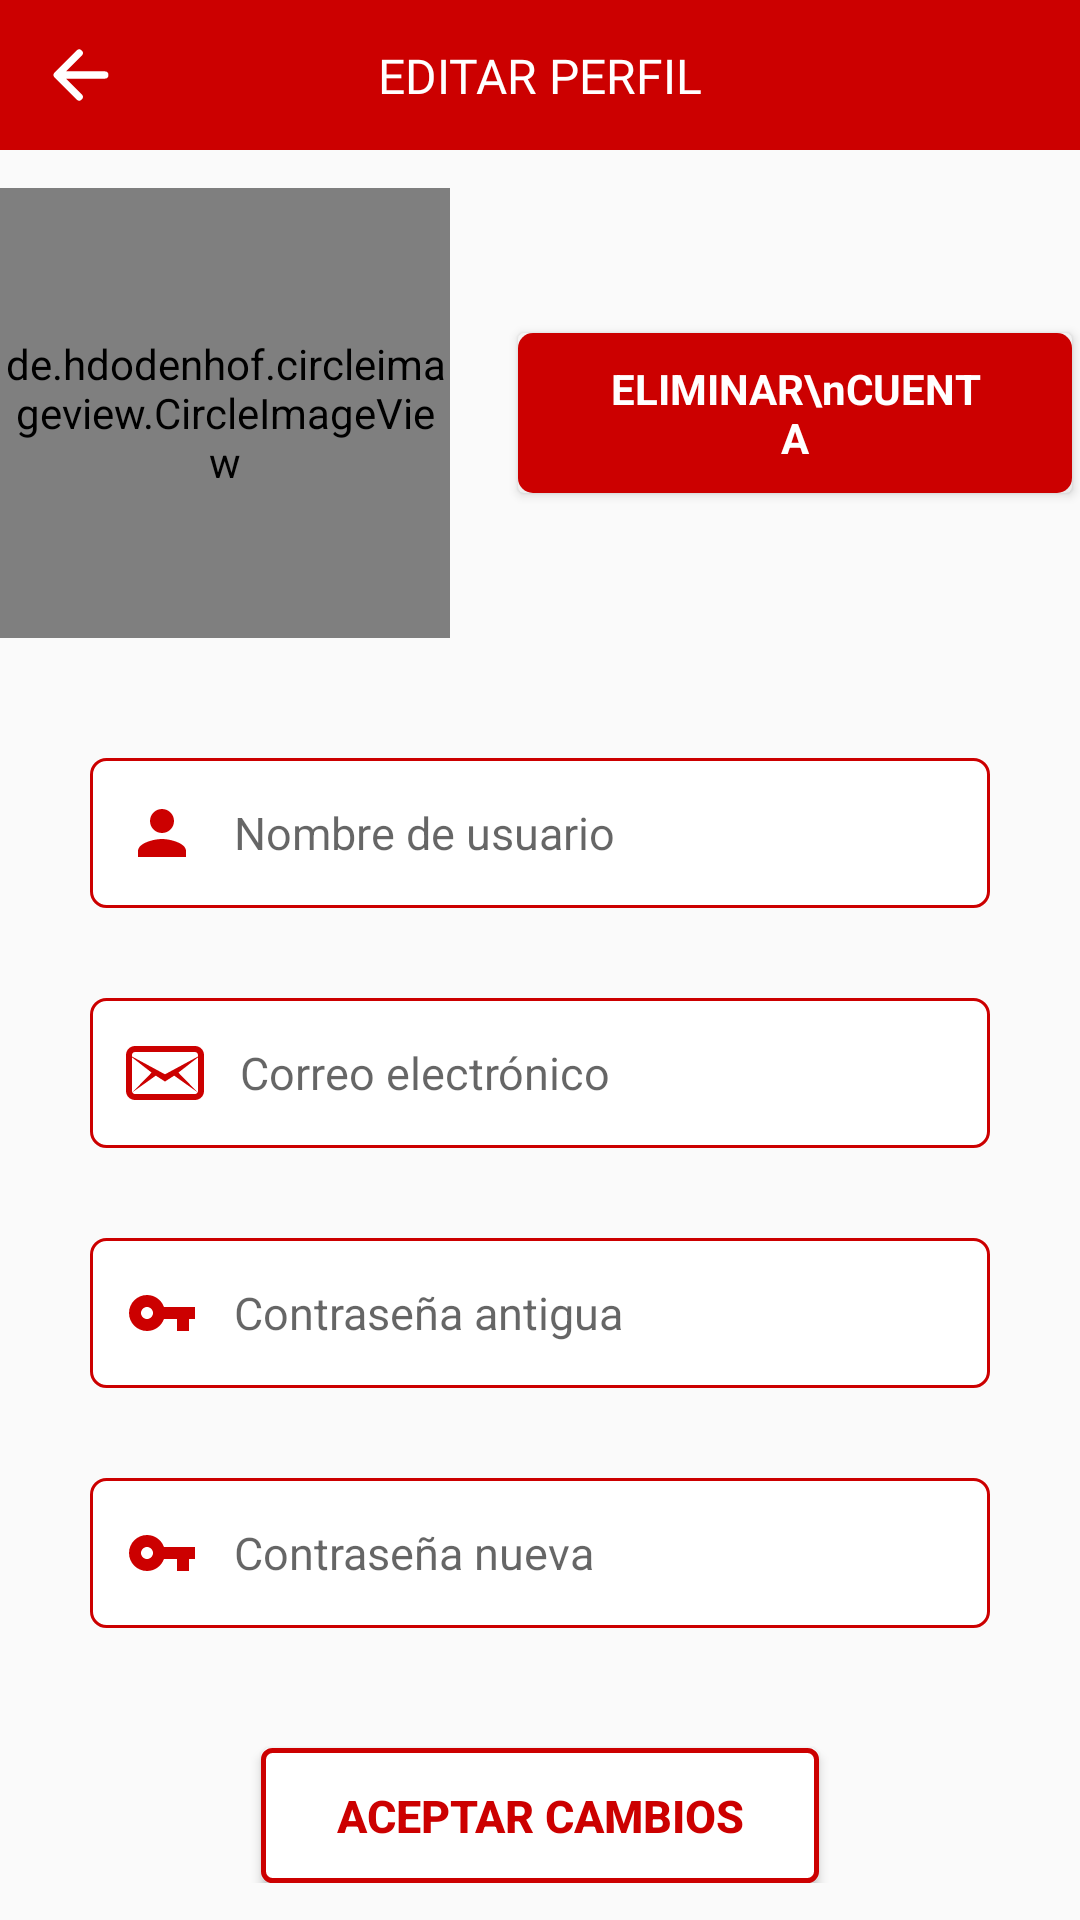

Named icons in this screenshot (1080px×1920px) and their bounding boxes, (x1, y1, x2, y2):
edit back: (53, 49, 109, 101)
